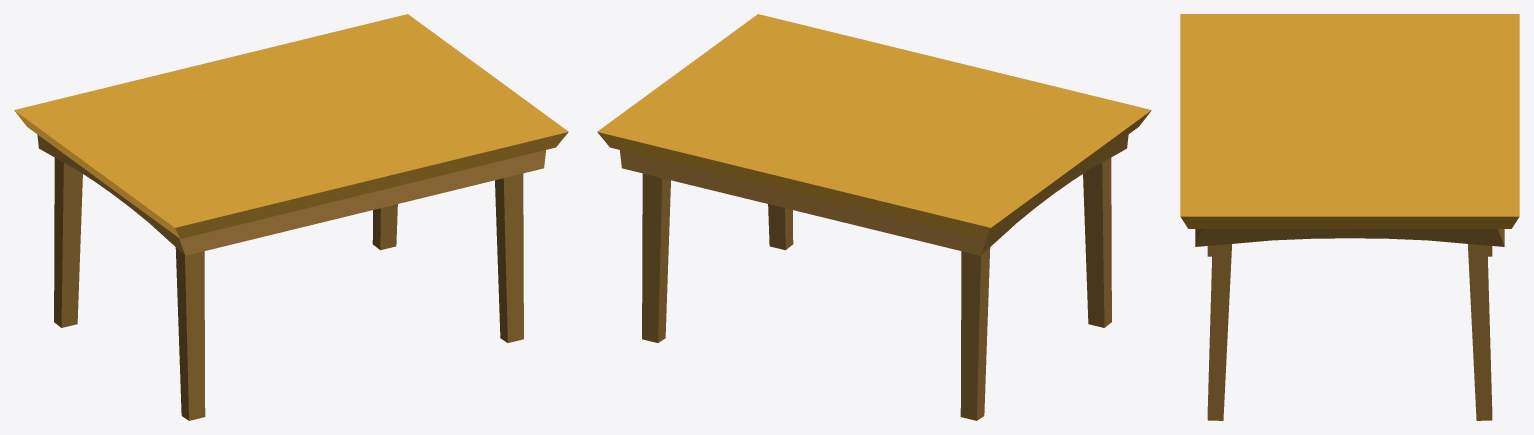
File: MejaUpdated.fbx
3 views of the same model, side by side, from view 1: azimuth 30°, elevation 25°; view 2: azimuth 150°, elevation 25°; view 3: azimuth 270°, elevation 25° (orthographic). The views are drawn at different scales.
Visible parts, largest first — view 1: Meja; view 2: Meja; view 3: Meja.
Part boxes in pixels (x1,y1,x2,y2): Meja: [14, 14, 568, 420]; Meja: [597, 14, 1151, 420]; Meja: [1180, 14, 1519, 420].
Bounding box in the file's own units: 172 × 87.33 × 122.
